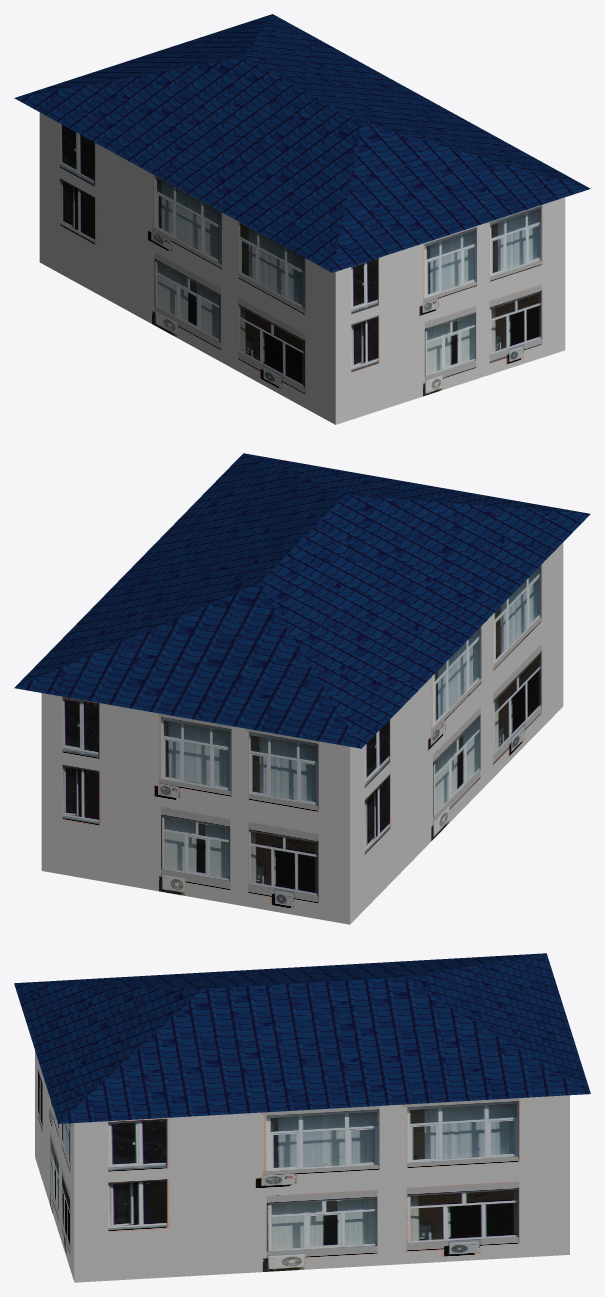
3 renders of one model, top to bottom at view 1: azimuth 30°, elevation 25°; view 2: azimuth 150°, elevation 25°; view 3: azimuth 270°, elevation 25°, orthographic. The views are drawn at different scales.
Parts seen in each view (by area): view 1: CityEngineMaterial_9_m, CityEngineMaterial_6_m; view 2: CityEngineMaterial_6_m, CityEngineMaterial_9_m; view 3: CityEngineMaterial_9_m, CityEngineMaterial_6_m.
Part boxes in pixels (left/top/right/bottom): CityEngineMaterial_9_m: left=39, top=112, right=565, bottom=424; CityEngineMaterial_6_m: left=14, top=14, right=590, bottom=272; CityEngineMaterial_6_m: left=14, top=453, right=590, bottom=748; CityEngineMaterial_9_m: left=41, top=542, right=563, bottom=924; CityEngineMaterial_9_m: left=35, top=1051, right=569, bottom=1282; CityEngineMaterial_6_m: left=14, top=953, right=590, bottom=1123.
Bounding box in the file's own units: 20.15 × 12.28 × 28.79.
